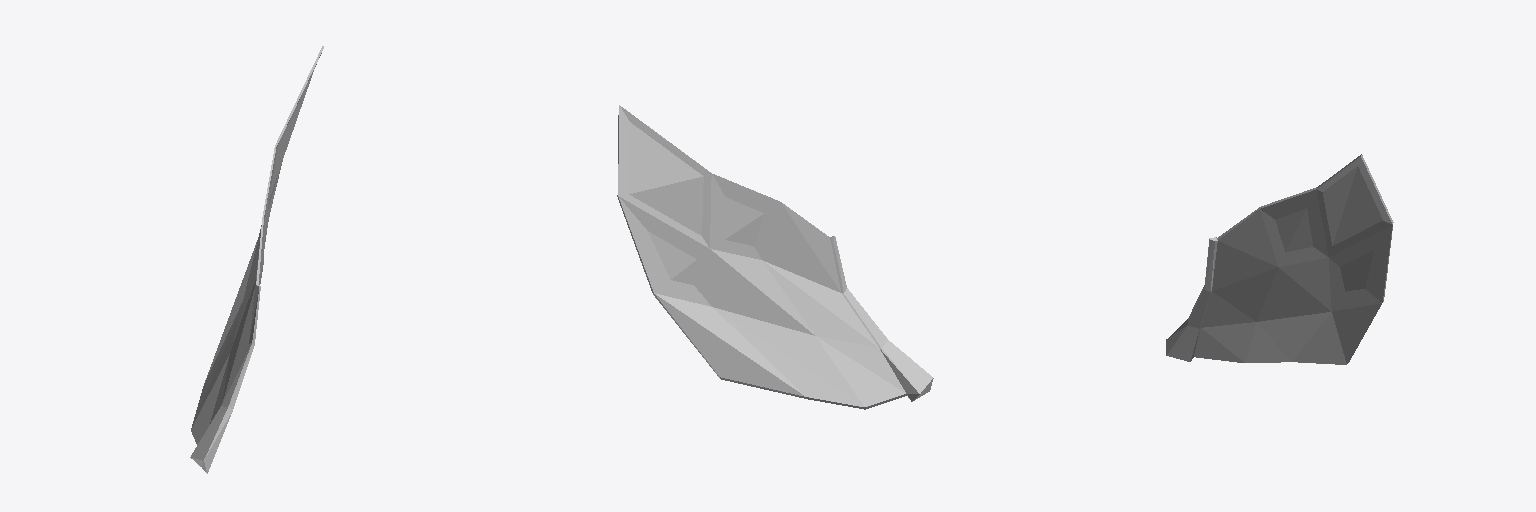
Rendered from Harish_wing_left_texture2.obj.
The picture shows the model from 3 angles: view 1: azimuth 30°, elevation 25°; view 2: azimuth 150°, elevation 25°; view 3: azimuth 270°, elevation 25°; orthographic projection.
Bounding box in the file's own units: 0.9985 × 1.36 × 0.9017.